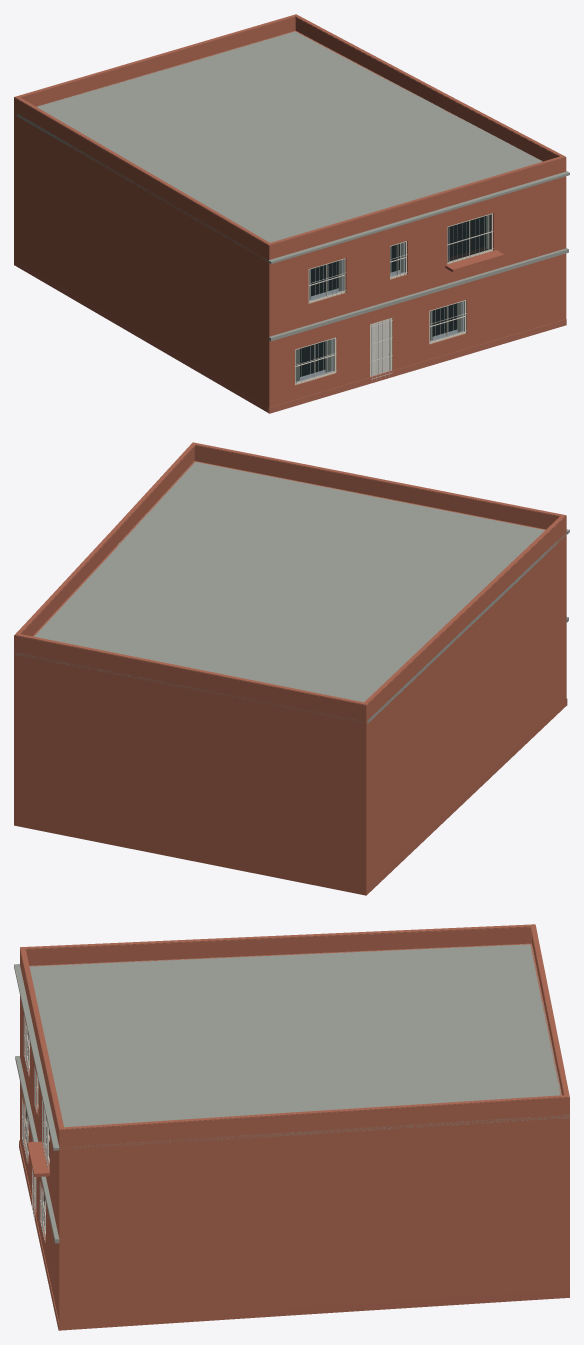
Rendered from building.glb.
The picture shows the model from 3 angles, top to bottom: view 1: azimuth 30°, elevation 25°; view 2: azimuth 150°, elevation 25°; view 3: azimuth 270°, elevation 25°; orthographic projection. The views are drawn at different scales.
Parts seen in each view (by area): view 1: roof/main:0/roof_slab#0001, main:0/edge0/z0/main:0/edge0/z0/wall_0_0/core0, roof/main:0/parapet#0001, main:0/edge1/z0/main:0/edge1/z0/wall_0_0/clip15, main:0/edge1/z0/main:0/edge1/z0/wall_0_0/clip27, roof/main:0/parapet_cap#0002, main:0/edge1/z0/main:0/edge1/z0/wall_0_0/clip9, main:0/edge1/z0/main:0/edge1/z0/wall_0_0/clip2, main:0/edge1/z0/main:0/edge1/z0/wall_0_0/clip21, roof/main:0/parapet_cap#0001, main:0/edge1/z0/plinth#0001, main:0/edge1/z0/floor_slab#0001 (+22 smaller); view 2: roof/main:0/roof_slab#0001, main:0/edge5/z0/main:0/edge5/z0/wall_0_0, main:0/edge0/z0/main:0/edge0/z0/wall_0_0/core0, roof/main:0/parapet#0001, roof/main:0/parapet_cap#0002, roof/main:0/parapet_cap#0001, main:0/edge0/z0/plinth#0001, main:0/edge5/z0/plinth#0001, main:0/edge0/z0/main:0/edge0/z0/wall_0_0/clip1, main:0/edge6/z0/main:0/edge6/z0/wall_0_0/core0; view 3: roof/main:0/roof_slab#0001, main:0/edge3/z0/main:0/edge3/z0/wall_0_0, main:0/edge2/z0/main:0/edge2/z0/wall_0_0/core0, roof/main:0/parapet#0001, main:0/edge4/z0/main:0/edge4/z0/wall_0_0, roof/main:0/parapet_cap#0002, roof/main:0/parapet_cap#0001, main:0/edge1/z0/top_cornice#0001, main:0/edge3/z0/plinth#0001, main:0/edge1/z0/main:0/edge1/z0/wall_0_0/clip15, main:0/edge1/z0/floor_slab#0001, main:0/edge1/z0/main:0/edge1/z0/wall_0_0/clip9 (+4 smaller).
Boxes of the visible parts, x1,y1,x2,y2 form: roof/main:0/roof_slab#0001: [15, 31, 542, 261]; main:0/edge0/z0/main:0/edge0/z0/wall_0_0/core0: [14, 116, 269, 412]; roof/main:0/parapet#0001: [14, 18, 566, 259]; main:0/edge1/z0/main:0/edge1/z0/wall_0_0/clip15: [269, 230, 566, 354]; main:0/edge1/z0/main:0/edge1/z0/wall_0_0/clip27: [269, 176, 566, 279]; roof/main:0/parapet_cap#0002: [14, 14, 565, 245]; main:0/edge1/z0/main:0/edge1/z0/wall_0_0/clip9: [466, 270, 566, 333]; main:0/edge1/z0/main:0/edge1/z0/wall_0_0/clip2: [392, 305, 566, 370]; main:0/edge1/z0/main:0/edge1/z0/wall_0_0/clip21: [493, 193, 566, 248]; roof/main:0/parapet_cap#0001: [14, 17, 566, 246]; main:0/edge1/z0/plinth#0001: [269, 319, 566, 413]; main:0/edge1/z0/floor_slab#0001: [269, 248, 568, 341]; roof/main:0/roof_slab#0001: [14, 462, 566, 723]; main:0/edge5/z0/main:0/edge5/z0/wall_0_0: [14, 651, 361, 894]; main:0/edge0/z0/main:0/edge0/z0/wall_0_0/core0: [368, 533, 566, 885]; roof/main:0/parapet#0001: [14, 447, 566, 721]; roof/main:0/parapet_cap#0002: [15, 442, 565, 705]; roof/main:0/parapet_cap#0001: [14, 445, 566, 706]; main:0/edge0/z0/plinth#0001: [365, 703, 566, 895]; main:0/edge5/z0/plinth#0001: [14, 824, 360, 893]; main:0/edge0/z0/main:0/edge0/z0/wall_0_0/clip1: [361, 720, 366, 894]; main:0/edge6/z0/main:0/edge6/z0/wall_0_0/core0: [362, 721, 366, 895]; roof/main:0/roof_slab#0001: [29, 944, 569, 1149]; main:0/edge3/z0/main:0/edge3/z0/wall_0_0: [286, 1117, 526, 1315]; main:0/edge2/z0/main:0/edge2/z0/wall_0_0/core0: [59, 1132, 286, 1330]; roof/main:0/parapet#0001: [20, 928, 569, 1147]; main:0/edge4/z0/main:0/edge4/z0/wall_0_0: [526, 1114, 569, 1300]; roof/main:0/parapet_cap#0002: [20, 924, 569, 1129]; roof/main:0/parapet_cap#0001: [20, 925, 569, 1131]; main:0/edge1/z0/top_cornice#0001: [14, 964, 59, 1150]; main:0/edge3/z0/plinth#0001: [286, 1293, 526, 1315]; main:0/edge1/z0/main:0/edge1/z0/wall_0_0/clip15: [20, 1035, 64, 1259]; main:0/edge1/z0/floor_slab#0001: [15, 1056, 59, 1243]; main:0/edge1/z0/main:0/edge1/z0/wall_0_0/clip9: [46, 1204, 64, 1305].
Size of the model in its own units: 16.9 by 7.67 by 19.24.
